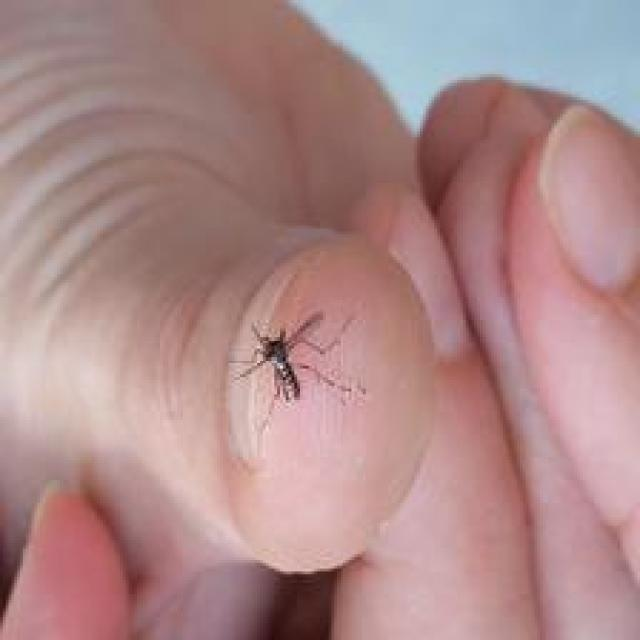Aedes albopictus: (227, 310, 367, 447)
